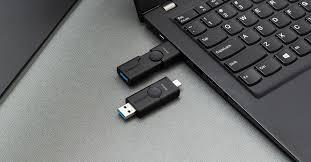Flash-drive: (109, 78, 209, 128), (118, 42, 177, 79)
